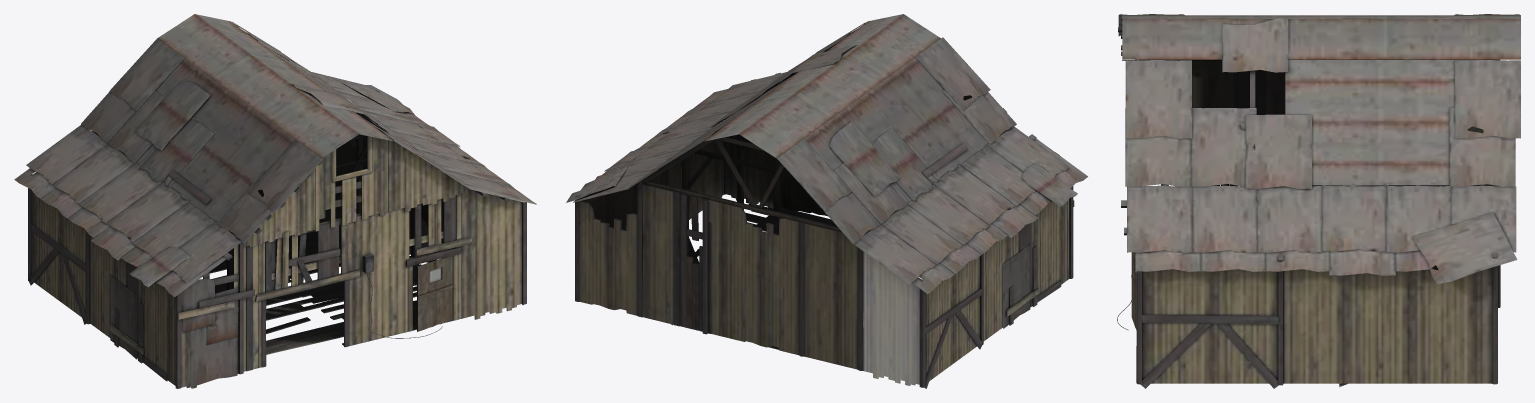
File: abandoned-barn.glb
The picture shows the model from 3 angles, left to right: view 1: azimuth 30°, elevation 25°; view 2: azimuth 150°, elevation 25°; view 3: azimuth 270°, elevation 25°; orthographic projection. The views are drawn at different scales.
Parts seen in each view (by area): view 1: Object002_Object002_mtl_0; view 2: Object002_Object002_mtl_0; view 3: Object002_Object002_mtl_0.
Boxes of the visible parts, x1,y1,x2,y2 form: Object002_Object002_mtl_0: (14,14,536,388); Object002_Object002_mtl_0: (566,14,1087,388); Object002_Object002_mtl_0: (1117,14,1520,388).
Size of the model in its own units: 244 by 135 by 184.
1 material, 1 textured.
